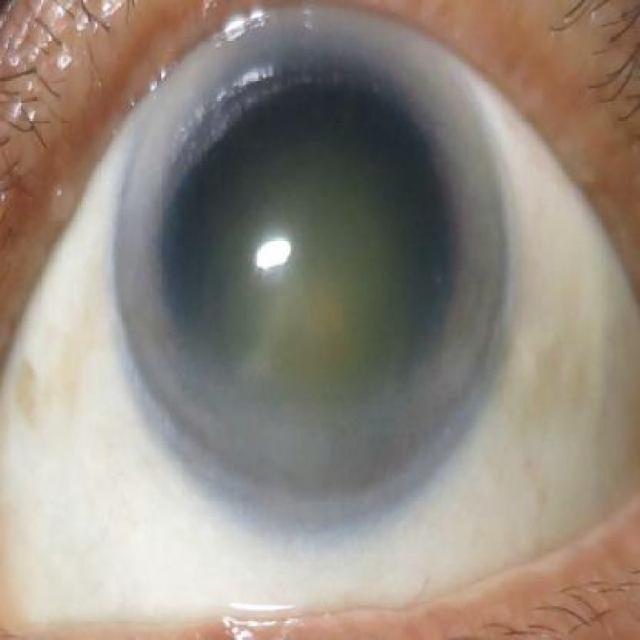Cataract: (120, 10, 507, 537)
